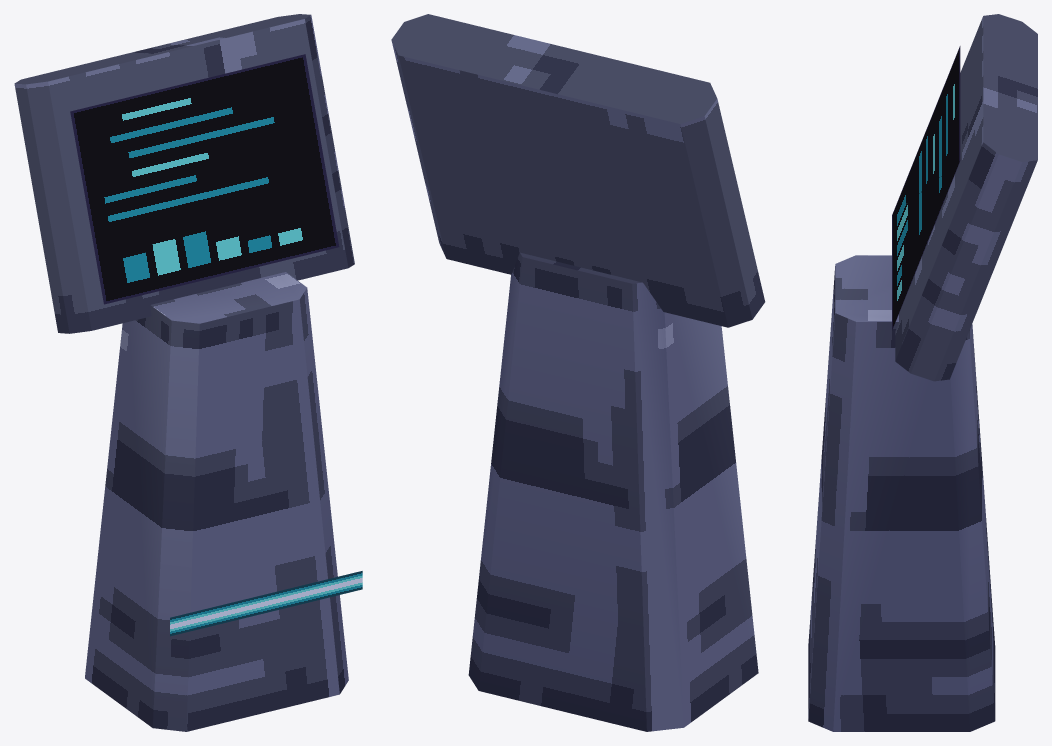
The model's file is cytech.terminal.glb.
The picture shows the model from 3 angles, left to right: view 1: azimuth 30°, elevation 25°; view 2: azimuth 150°, elevation 25°; view 3: azimuth 270°, elevation 25°; orthographic projection. The views are drawn at different scales.
Parts seen in each view (by area): view 1: kit_body, kit_card_screen; view 2: kit_body; view 3: kit_body, kit_card_screen.
Boxes of the visible parts, box(x1,y1,x2,y2) form: kit_body: box(14, 14, 354, 731); kit_card_screen: box(70, 54, 362, 636); kit_body: box(391, 14, 765, 731); kit_body: box(808, 14, 1037, 731); kit_card_screen: box(892, 46, 960, 330).
Bounding box in the file's own units: 0.8 × 1.61 × 0.5678.
Materials: 5 (5 with a texture image).
